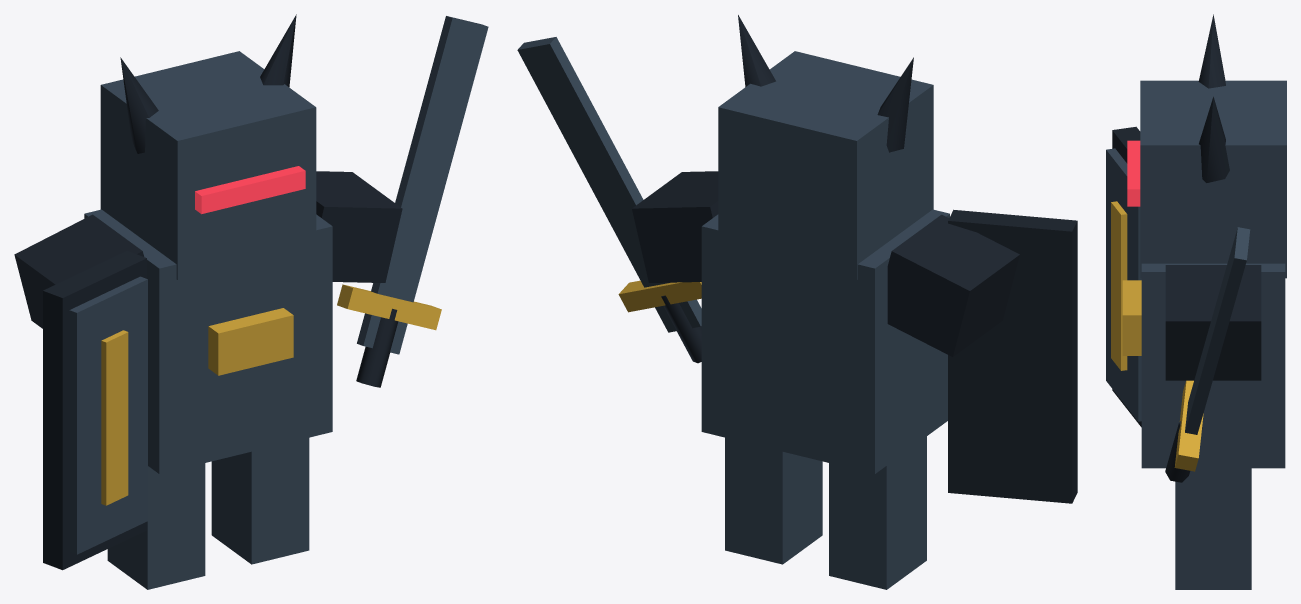
File: knight.glb
The picture shows the model from 3 angles, left to right: view 1: azimuth 30°, elevation 25°; view 2: azimuth 150°, elevation 25°; view 3: azimuth 270°, elevation 25°; orthographic projection. The views are drawn at different scales.
Parts seen in each view (by area): view 1: enemy_knight; view 2: enemy_knight; view 3: enemy_knight.
Part boxes in pixels (box(x1,y1,x2,y2)): enemy_knight: box(14, 14, 488, 589); enemy_knight: box(517, 15, 1077, 589); enemy_knight: box(1106, 14, 1286, 589).
Size of the model in its own units: 1.72 by 1.72 by 0.5668.
